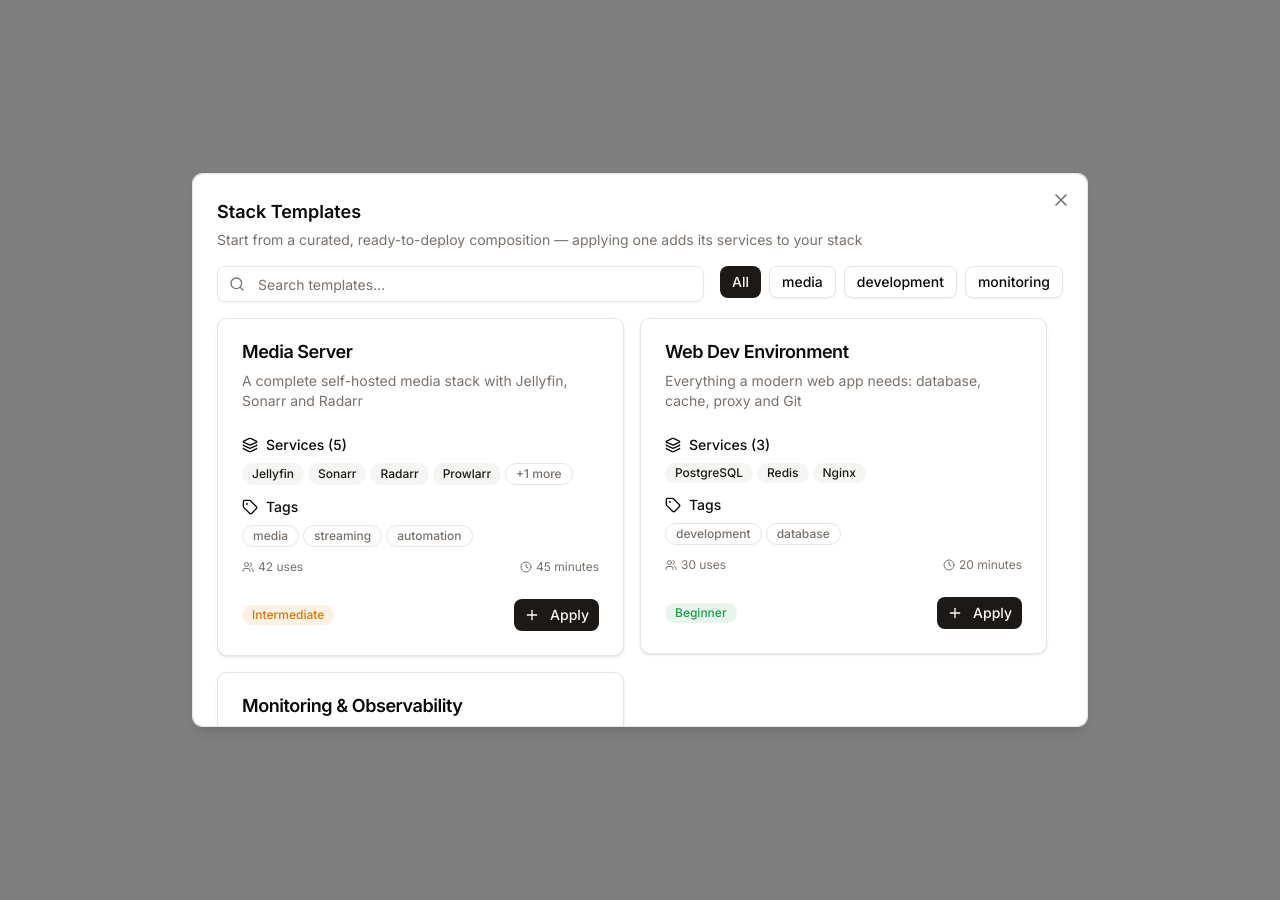
Test: StackTemplateModal › Search and Filter › filters templates by member service name
In the field with placeholder "Search templates...": (460, 284) [217,266,704,302], type "grafana"
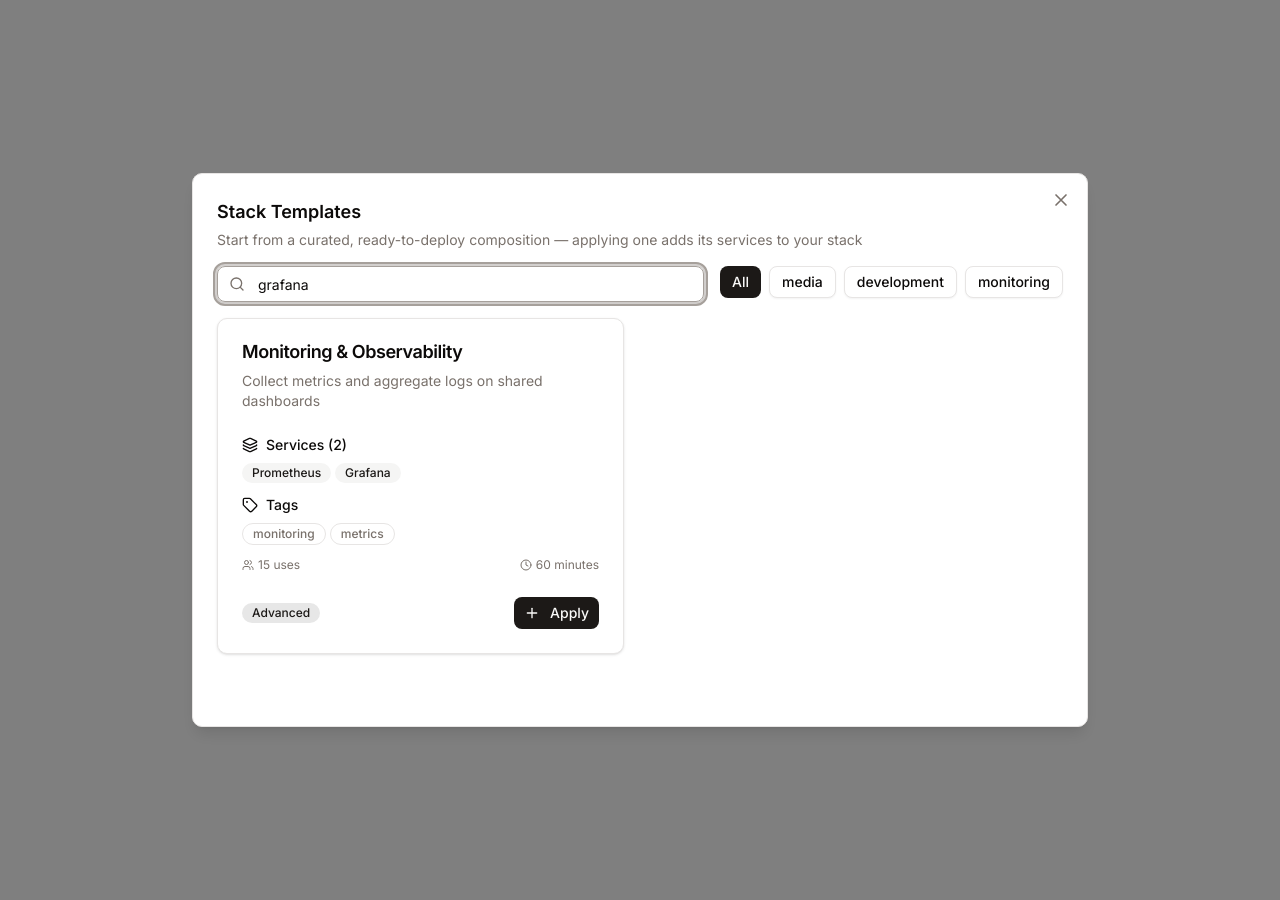
Check: the heading "Monitoring & Observability" is shown, box [242,341,462,362]
Check: the heading "Media Server" is gone
